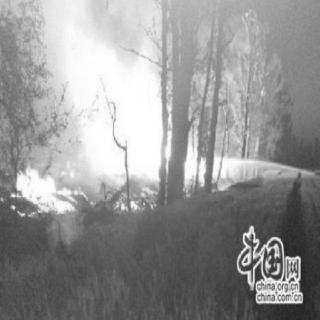Fire: (0, 1, 283, 229)
